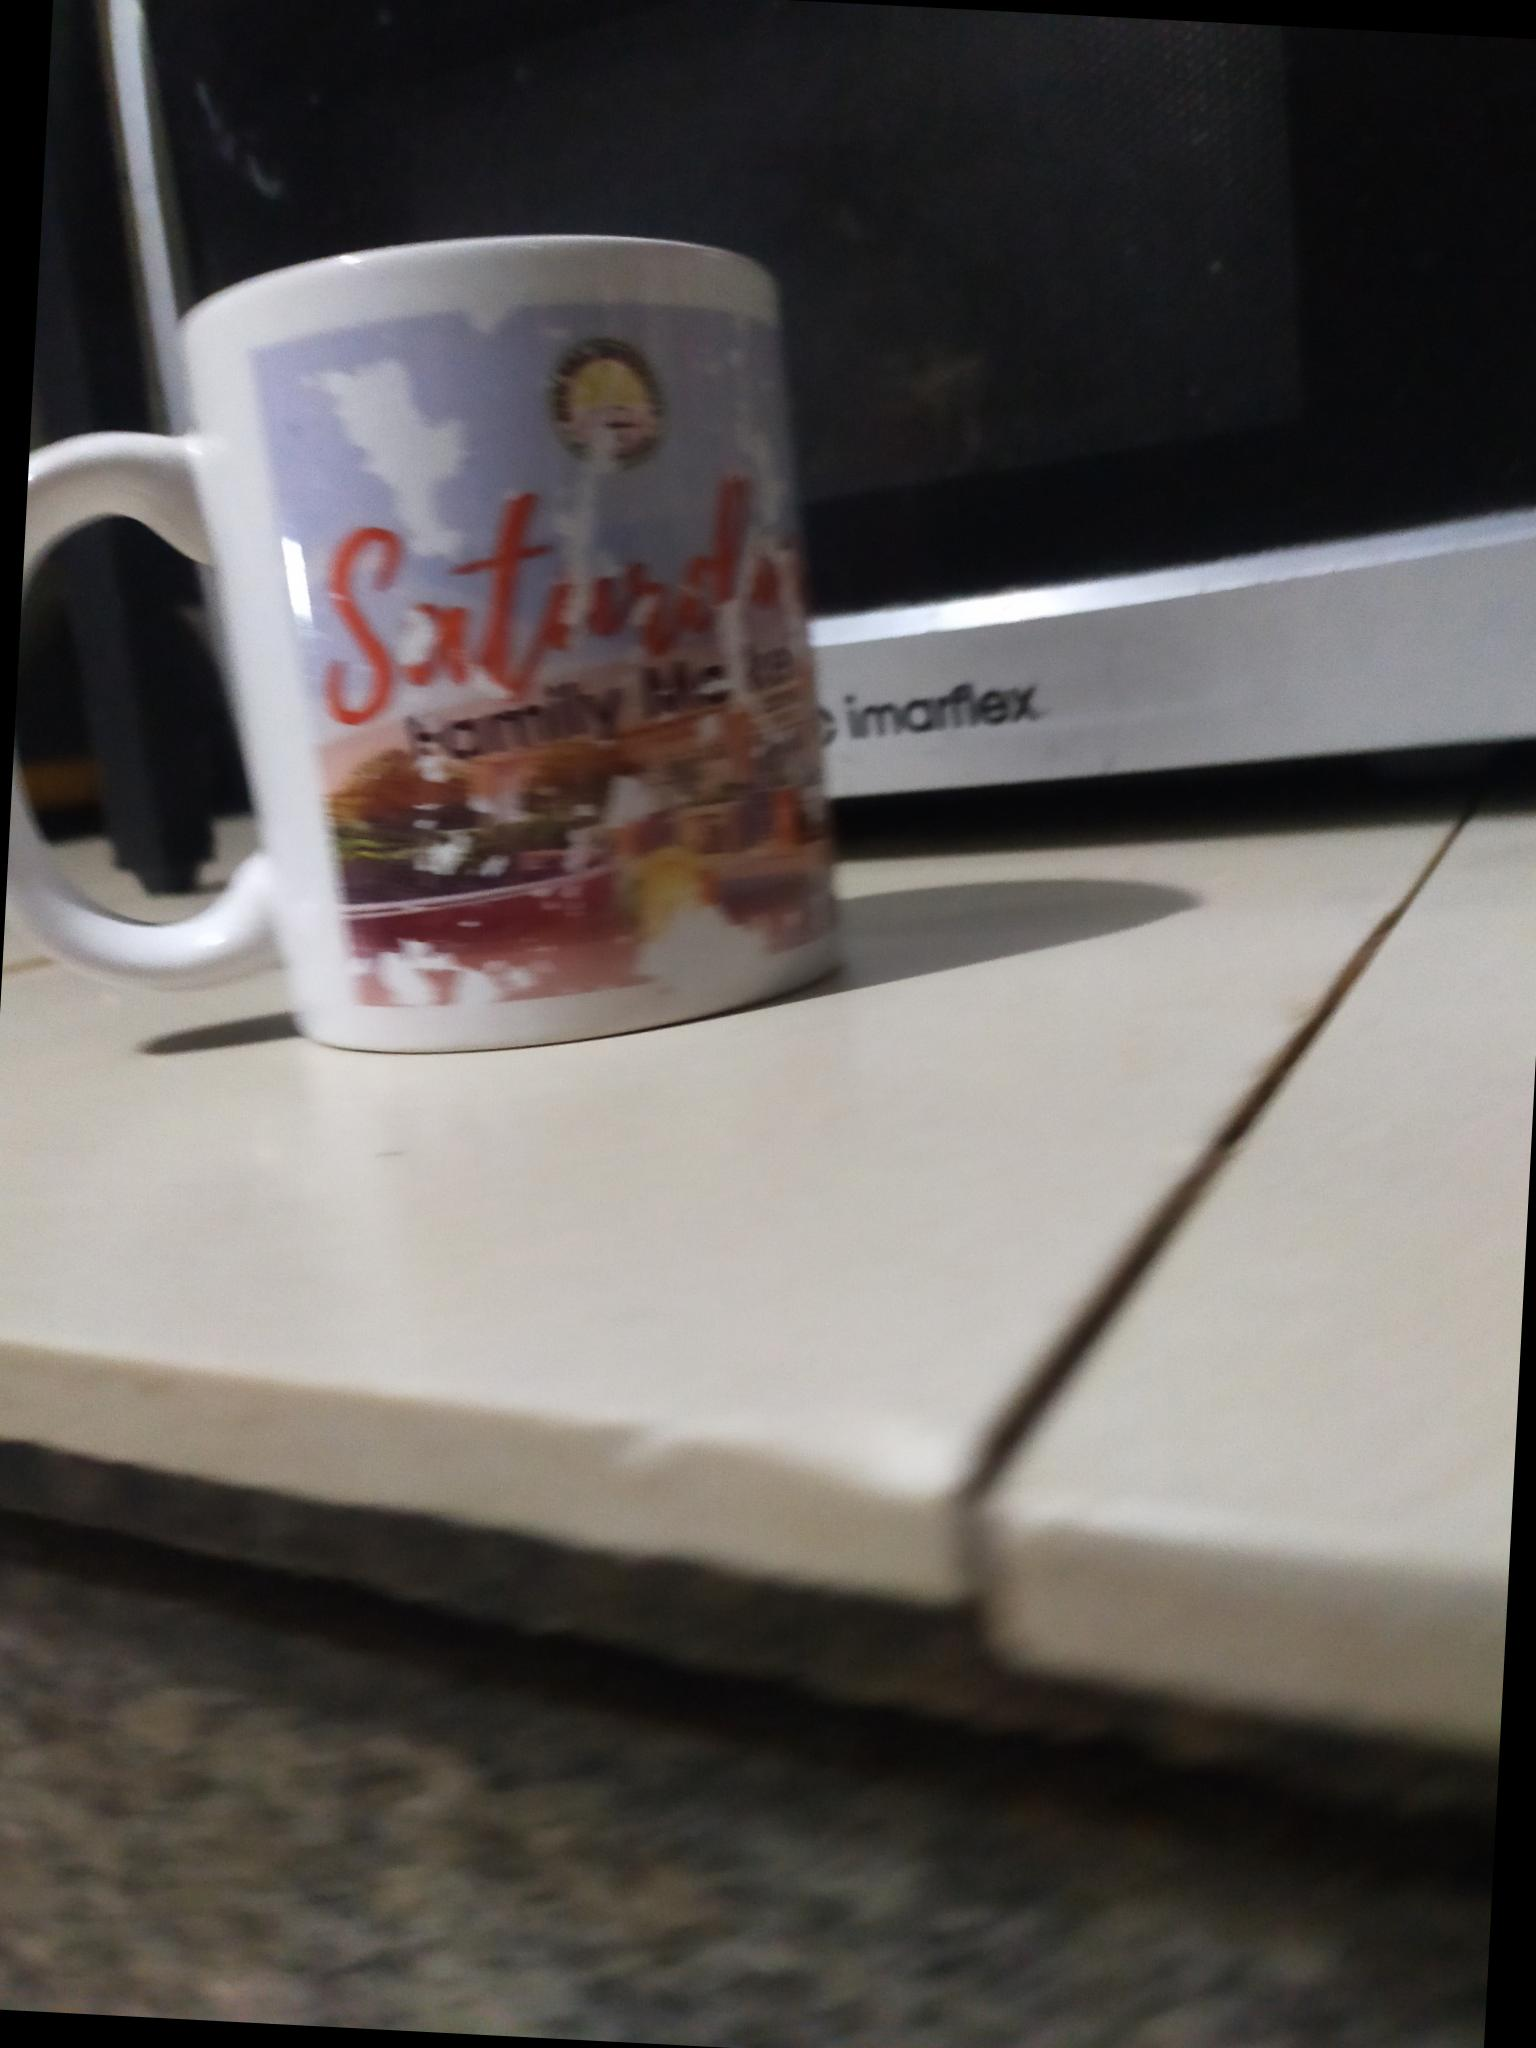Coffee Mug: (0, 205, 871, 1076)
